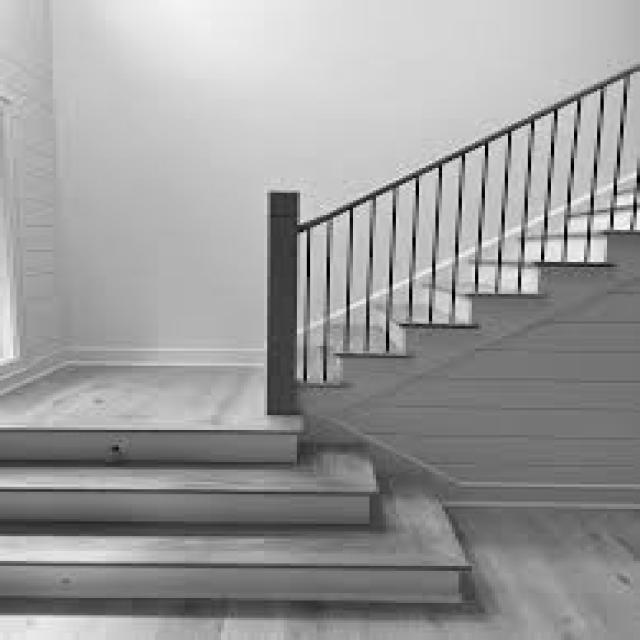stair: (297, 225, 640, 511), (0, 419, 473, 604)
